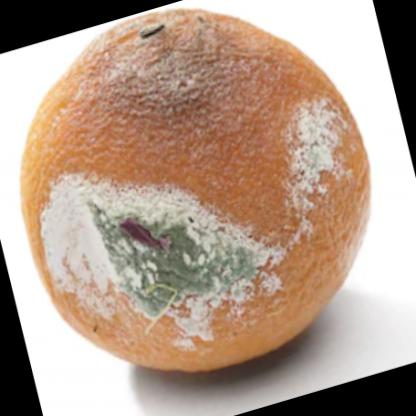rotten_orange: (12, 6, 379, 374)
